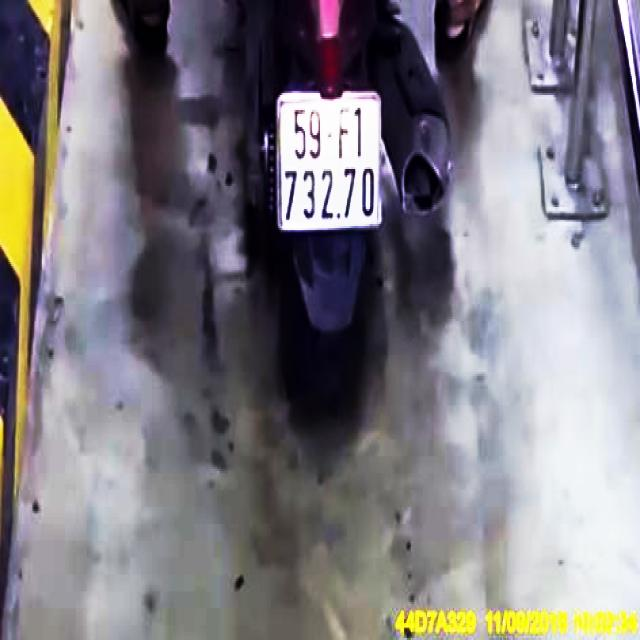license_plate: (278, 100, 384, 230)
